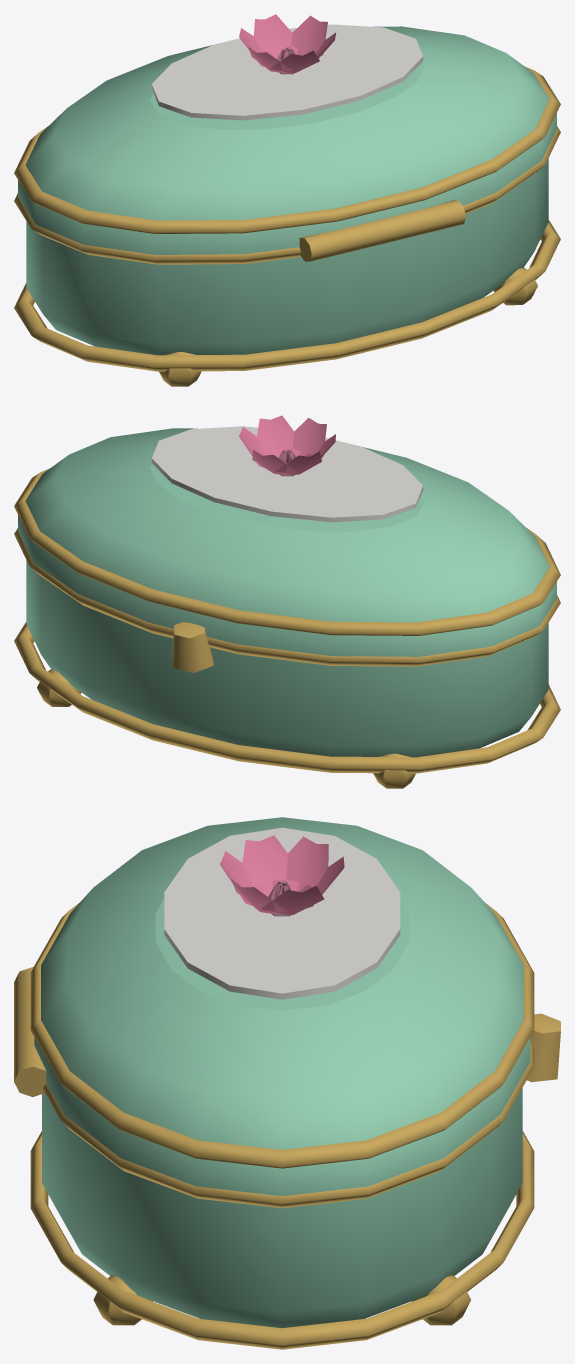
Rendered from trinket_box_enamel.glb.
3 views of the same model, one above another, from view 1: azimuth 30°, elevation 25°; view 2: azimuth 150°, elevation 25°; view 3: azimuth 270°, elevation 25° (orthographic). The views are drawn at different scales.
Parts seen in each view (by area): view 1: trinket_box_enamel; view 2: trinket_box_enamel; view 3: trinket_box_enamel.
Part boxes in pixels (bbox=[...]): trinket_box_enamel: bbox=[14, 14, 560, 386]; trinket_box_enamel: bbox=[14, 415, 560, 788]; trinket_box_enamel: bbox=[14, 817, 560, 1349].
Size of what is drawn, in the model's own units: 0.2 by 0.1 by 0.14.
